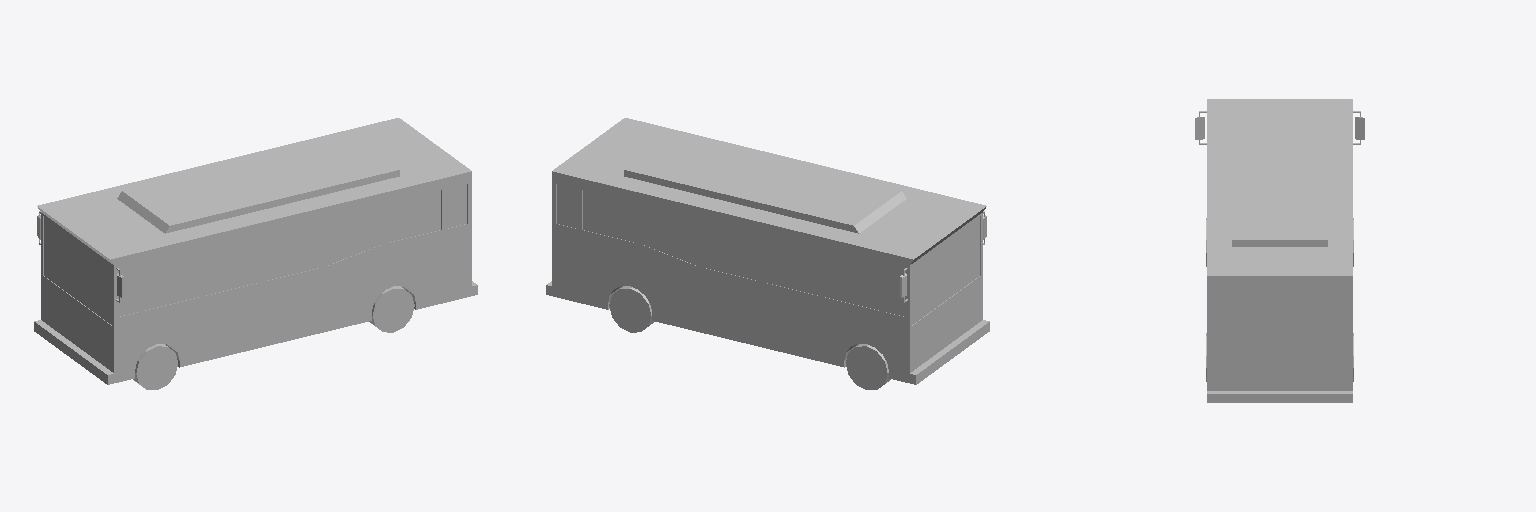
The model's file is bus.obj.
3 views of the same model, side by side, from view 1: azimuth 30°, elevation 25°; view 2: azimuth 150°, elevation 25°; view 3: azimuth 270°, elevation 25° (orthographic).
Parts seen in each view (by area): view 1: Body, Wheel_RL, Wheel_FL; view 2: Body, Wheel_FR, Wheel_RR; view 3: Body.
Boxes of the visible parts, x1=… form: Body: x1=34, y1=118, x2=477, y2=384; Wheel_RL: x1=369, y1=286, x2=414, y2=332; Wheel_FL: x1=133, y1=344, x2=177, y2=389; Body: x1=546, y1=118, x2=989, y2=384; Wheel_FR: x1=846, y1=344, x2=890, y2=389; Wheel_RR: x1=609, y1=286, x2=654, y2=332; Body: x1=1195, y1=99, x2=1364, y2=402.
Bounding box in the file's own units: 366 × 141 × 145.